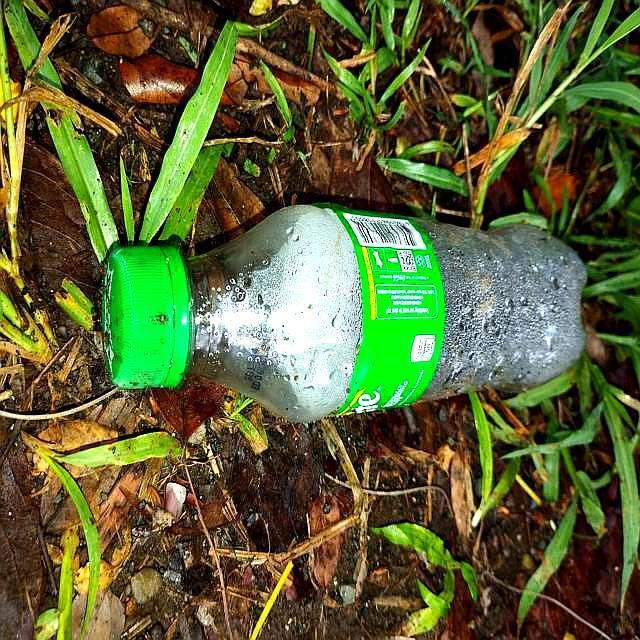Non-biodegradable: (101, 203, 591, 425)
